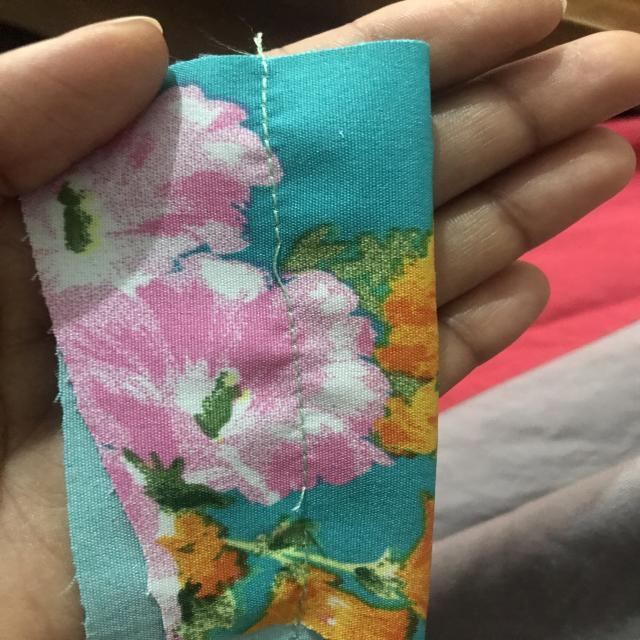broken: (278, 481, 320, 546)
skip: (261, 236, 313, 302)
